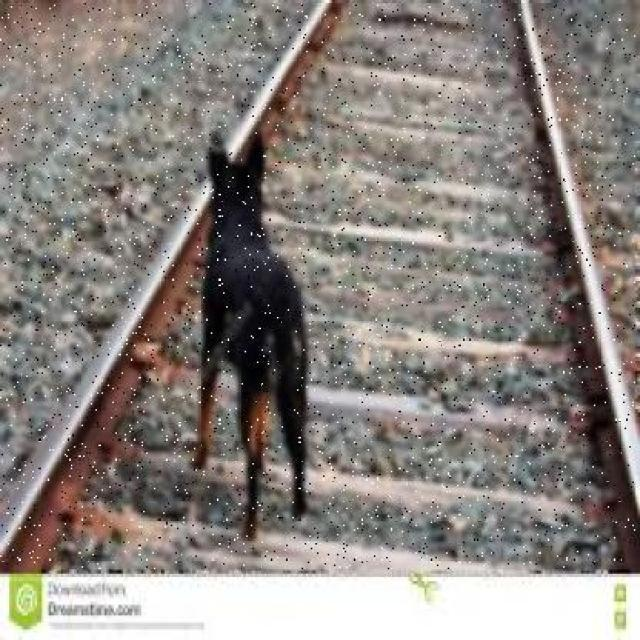danger: (185, 123, 306, 548)
rail: (0, 3, 635, 569)
